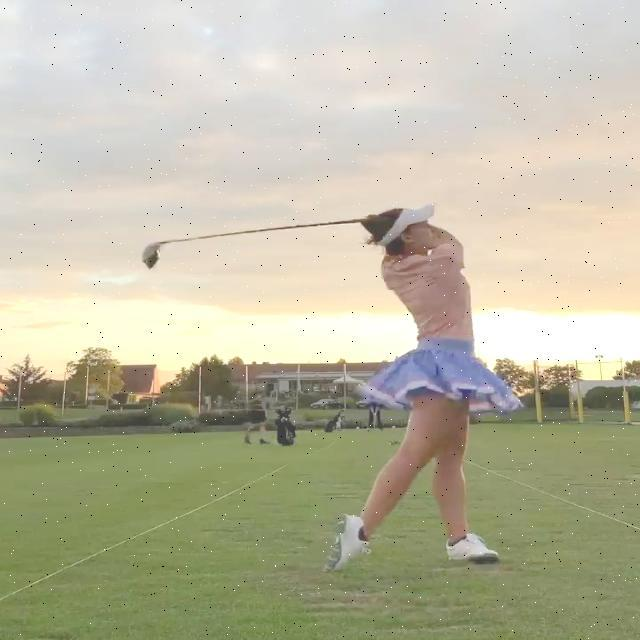golf club-handle: (142, 218, 362, 269)
golf club-head: (142, 243, 160, 270)
